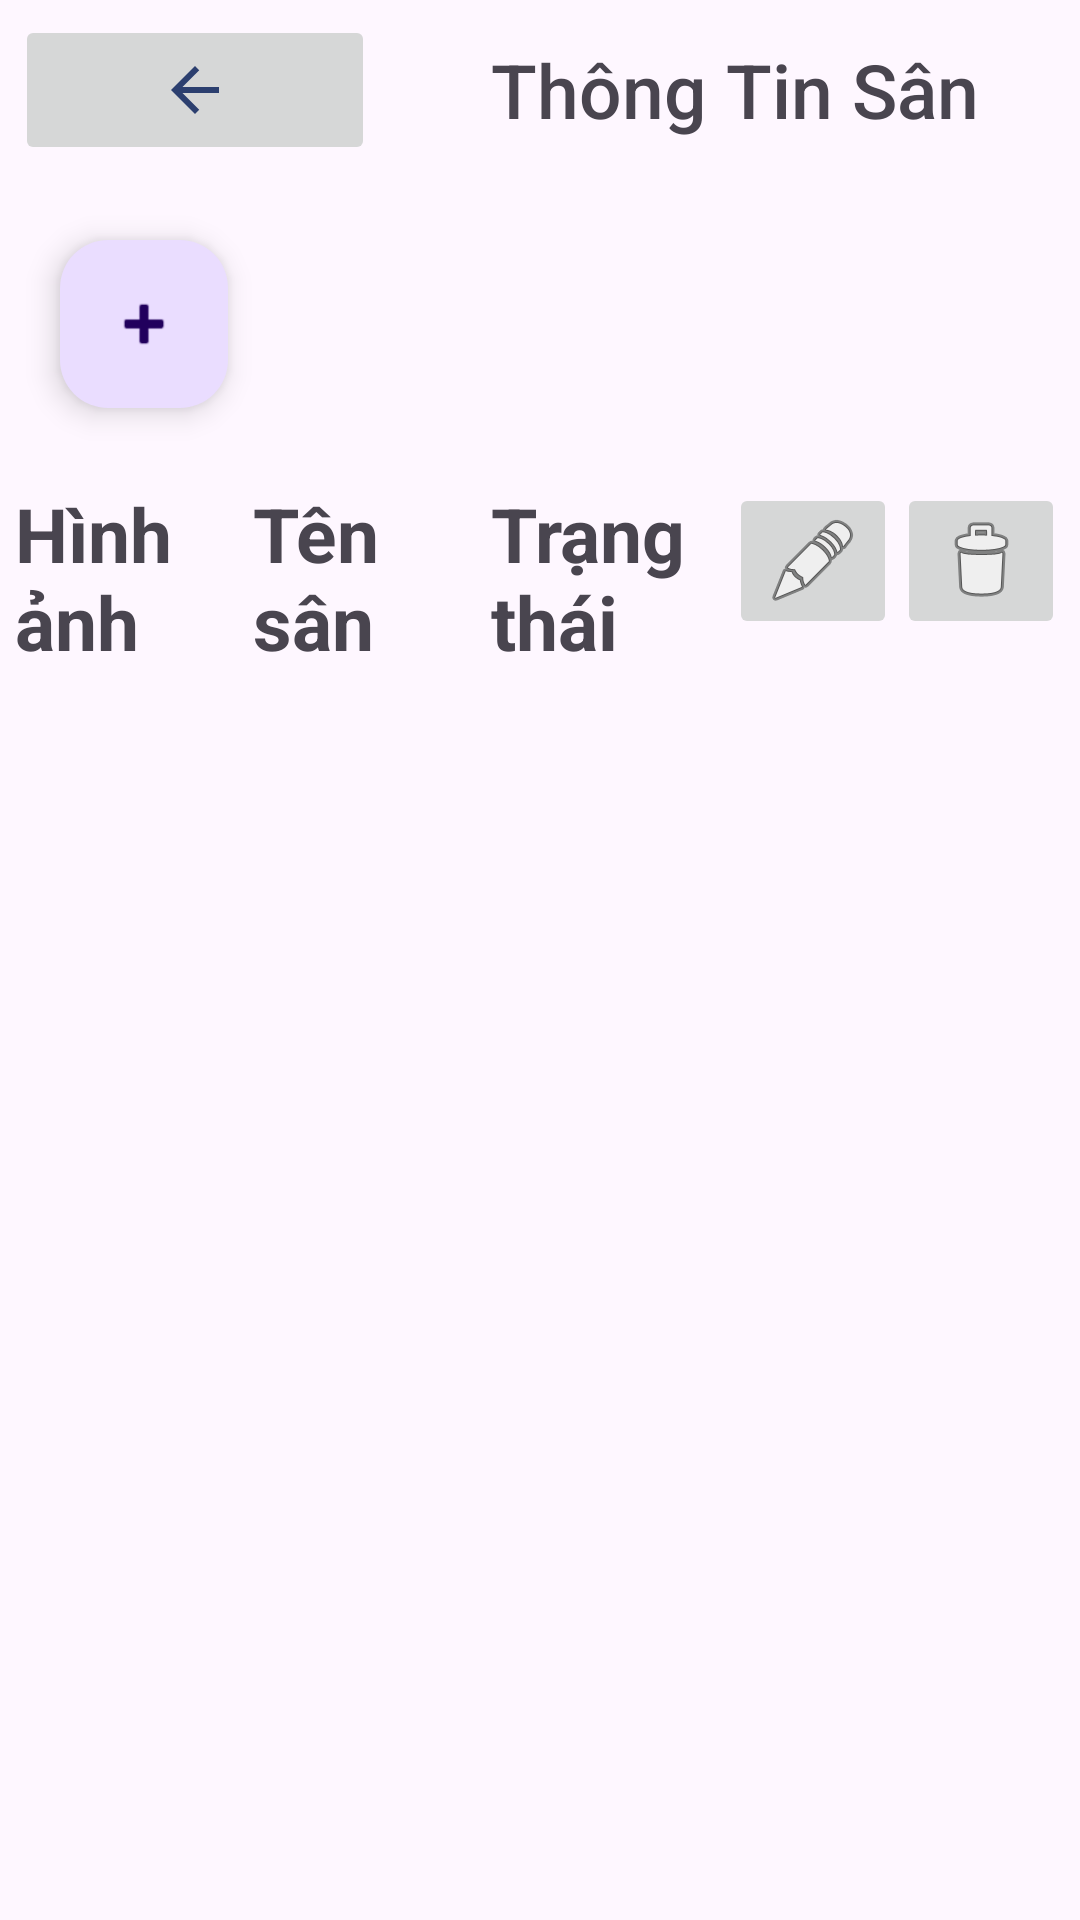

Named icons in this screenshot (1080*1920) and their centers, (x,y):
add: (144,324)
back: (195,90)
delete: (981,561)
edit: (813,561)
